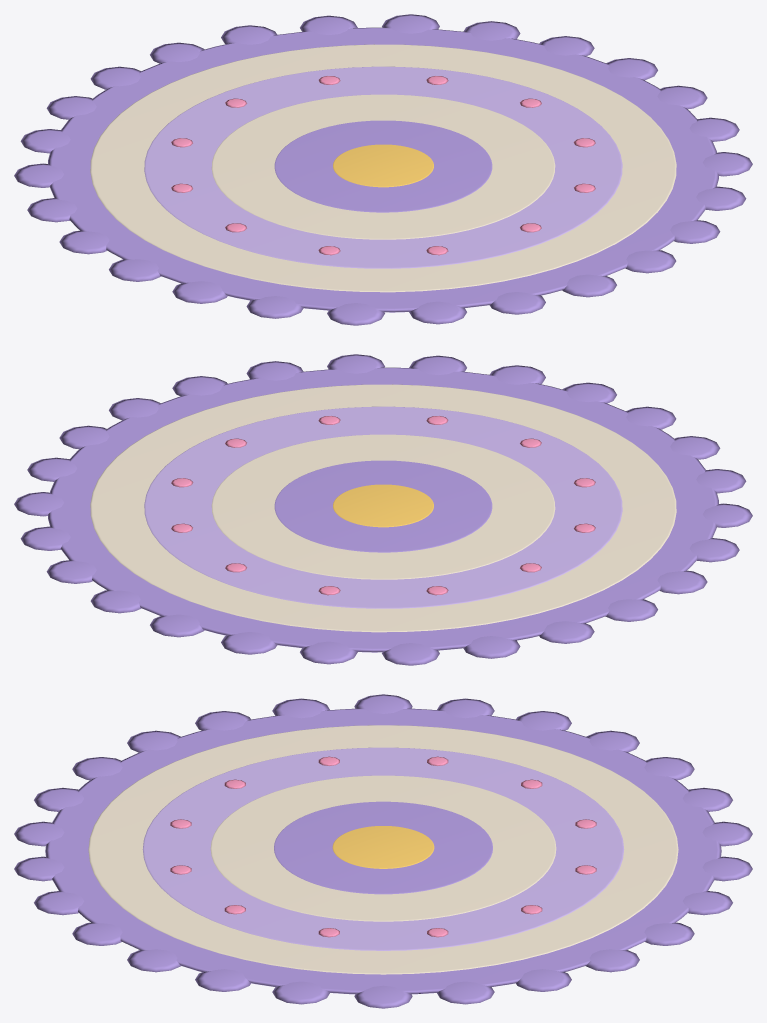
Rendered from rug.glb.
3 renders of one model, top to bottom at view 1: azimuth 30°, elevation 25°; view 2: azimuth 150°, elevation 25°; view 3: azimuth 270°, elevation 25°, orthographic.
Parts seen in each view (by area): view 1: rug; view 2: rug; view 3: rug.
Boxes of the visible parts, box(x1,y1,x2,y2) form: rug: box(14, 14, 752, 325); rug: box(14, 354, 752, 665); rug: box(14, 694, 752, 1008).
Bounding box in the file's own units: 3.3 × 0.04 × 3.28.
Materials: 1 (1 with a texture image).
